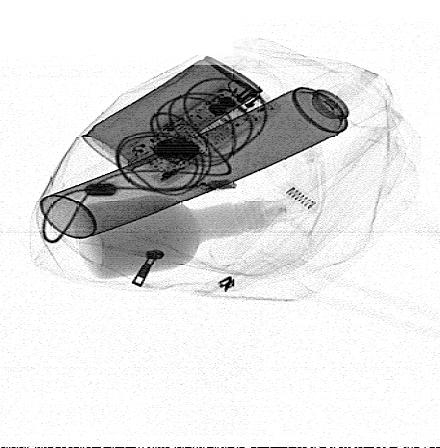Sprayer: (38, 68, 391, 239)
